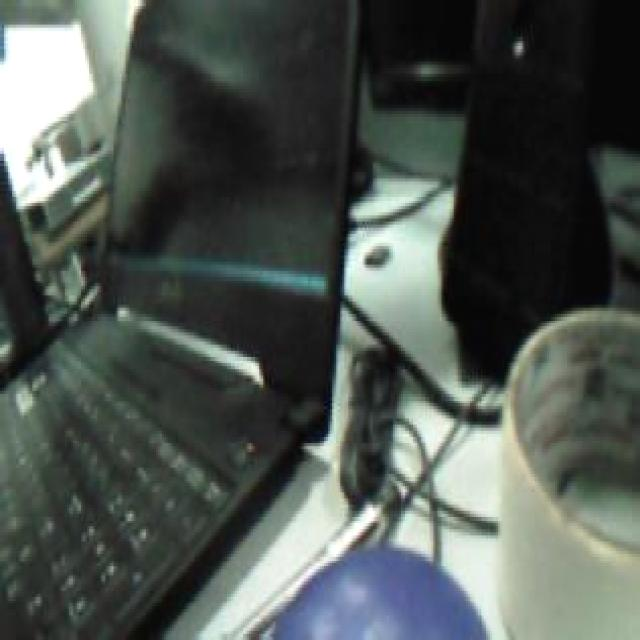BallPurple: (274, 547, 490, 640)
